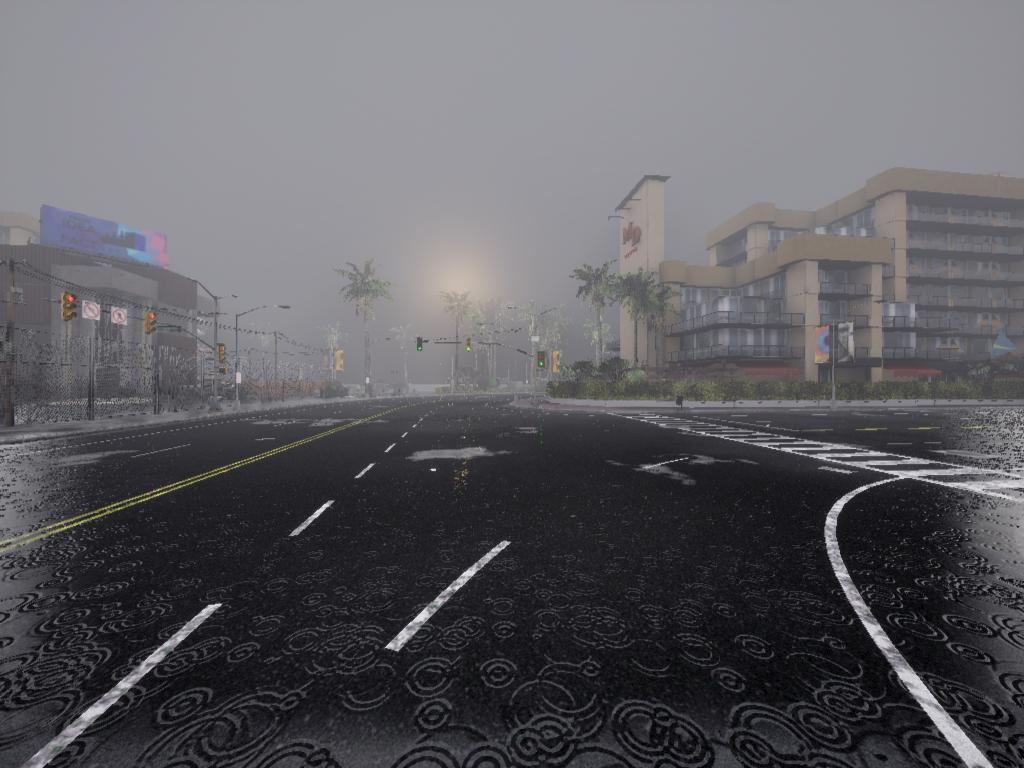traffic_light: (65, 295, 80, 322), (146, 311, 159, 338), (218, 348, 229, 367), (538, 355, 549, 372), (418, 340, 427, 355), (417, 338, 426, 351), (469, 344, 477, 355), (469, 341, 477, 351)
